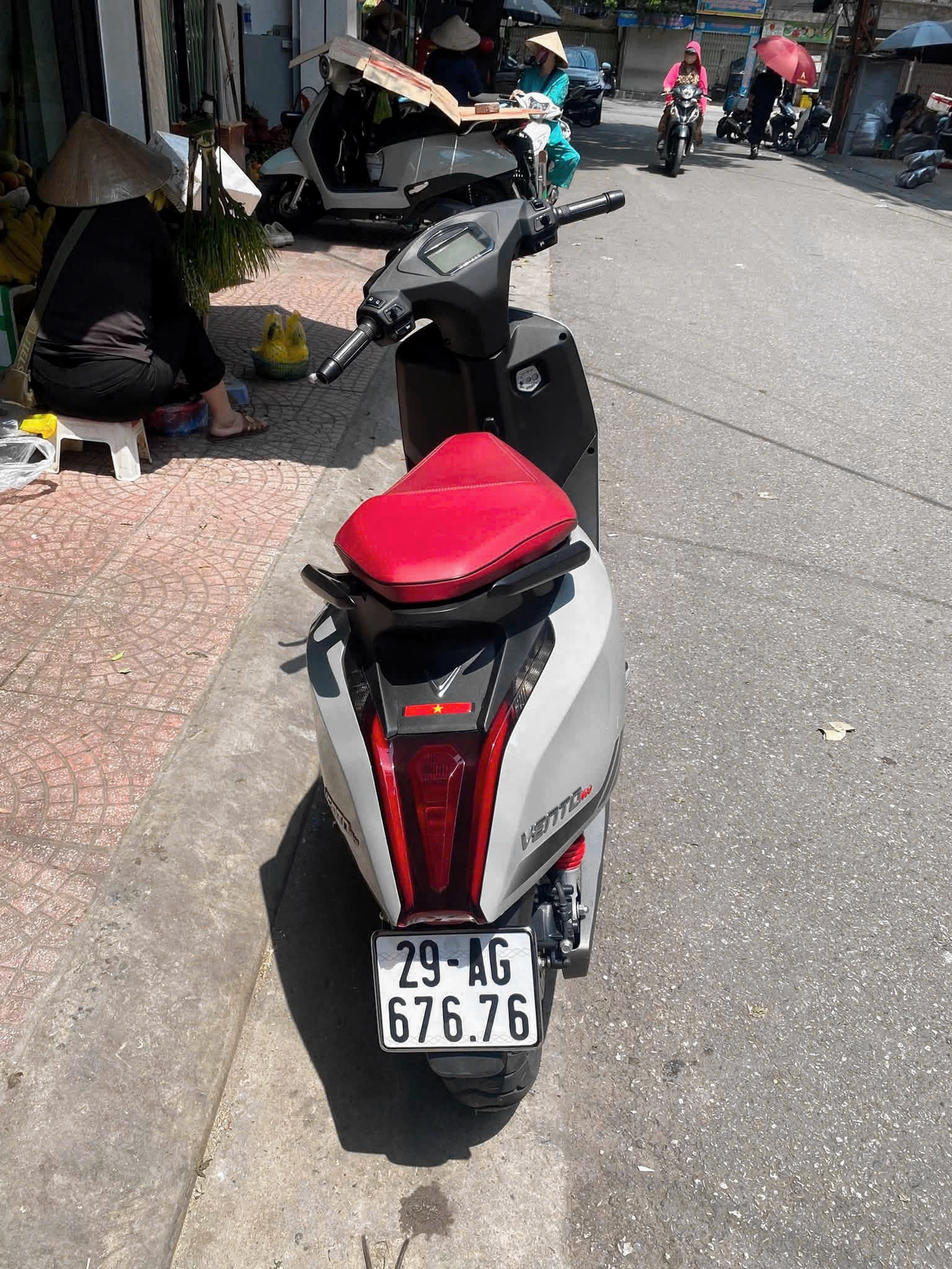Bien-so: (398, 927, 584, 1052)
